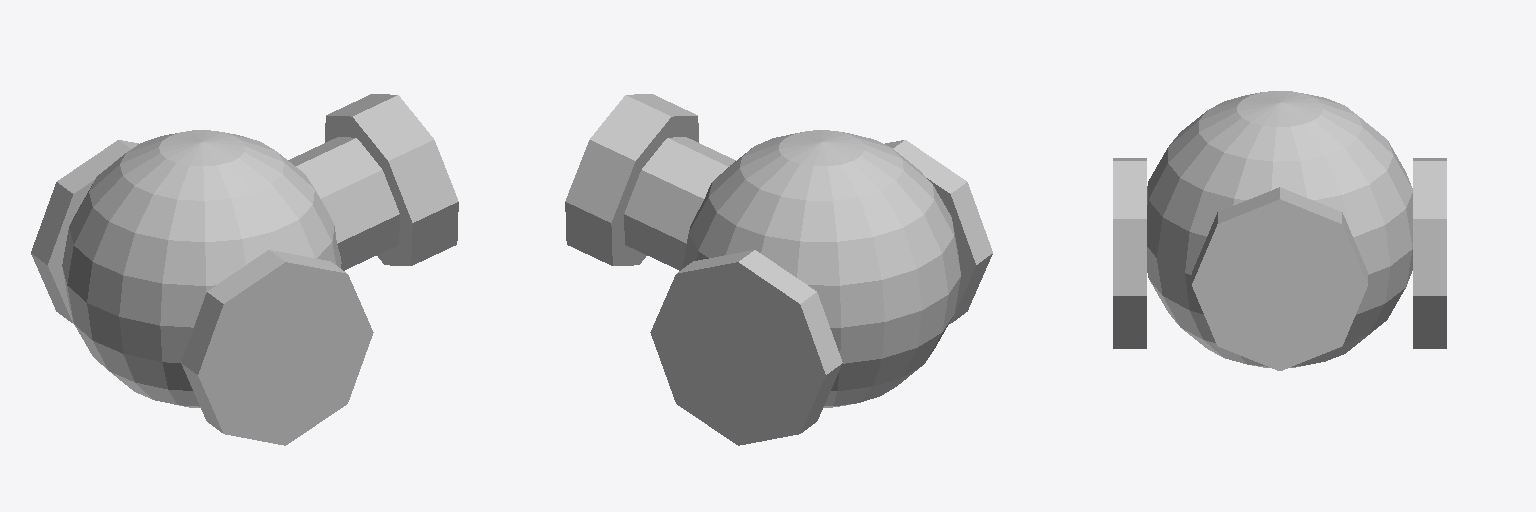
Rendered from cannon.obj.
3 renders of one model, left to right at view 1: azimuth 30°, elevation 25°; view 2: azimuth 150°, elevation 25°; view 3: azimuth 270°, elevation 25°, orthographic.
Visible parts, largest first — view 1: Sphere, Cylinder.002, Cylinder; view 2: Sphere, Cylinder.002, Cylinder; view 3: Sphere, Cylinder, Cylinder.002.
Part boxes in pixels (left/top/right/bottom): Sphere: left=62, top=130, right=341, bottom=407; Cylinder.002: left=31, top=140, right=373, bottom=445; Cylinder: left=288, top=94, right=458, bottom=270; Sphere: left=682, top=130, right=960, bottom=407; Cylinder.002: left=650, top=140, right=992, bottom=445; Cylinder: left=565, top=94, right=735, bottom=270; Sphere: left=1147, top=91, right=1412, bottom=367; Cylinder: left=1192, top=187, right=1367, bottom=370; Cylinder.002: left=1113, top=158, right=1446, bottom=348.
Bounding box in the file's own units: 2.88 × 2 × 2.39.